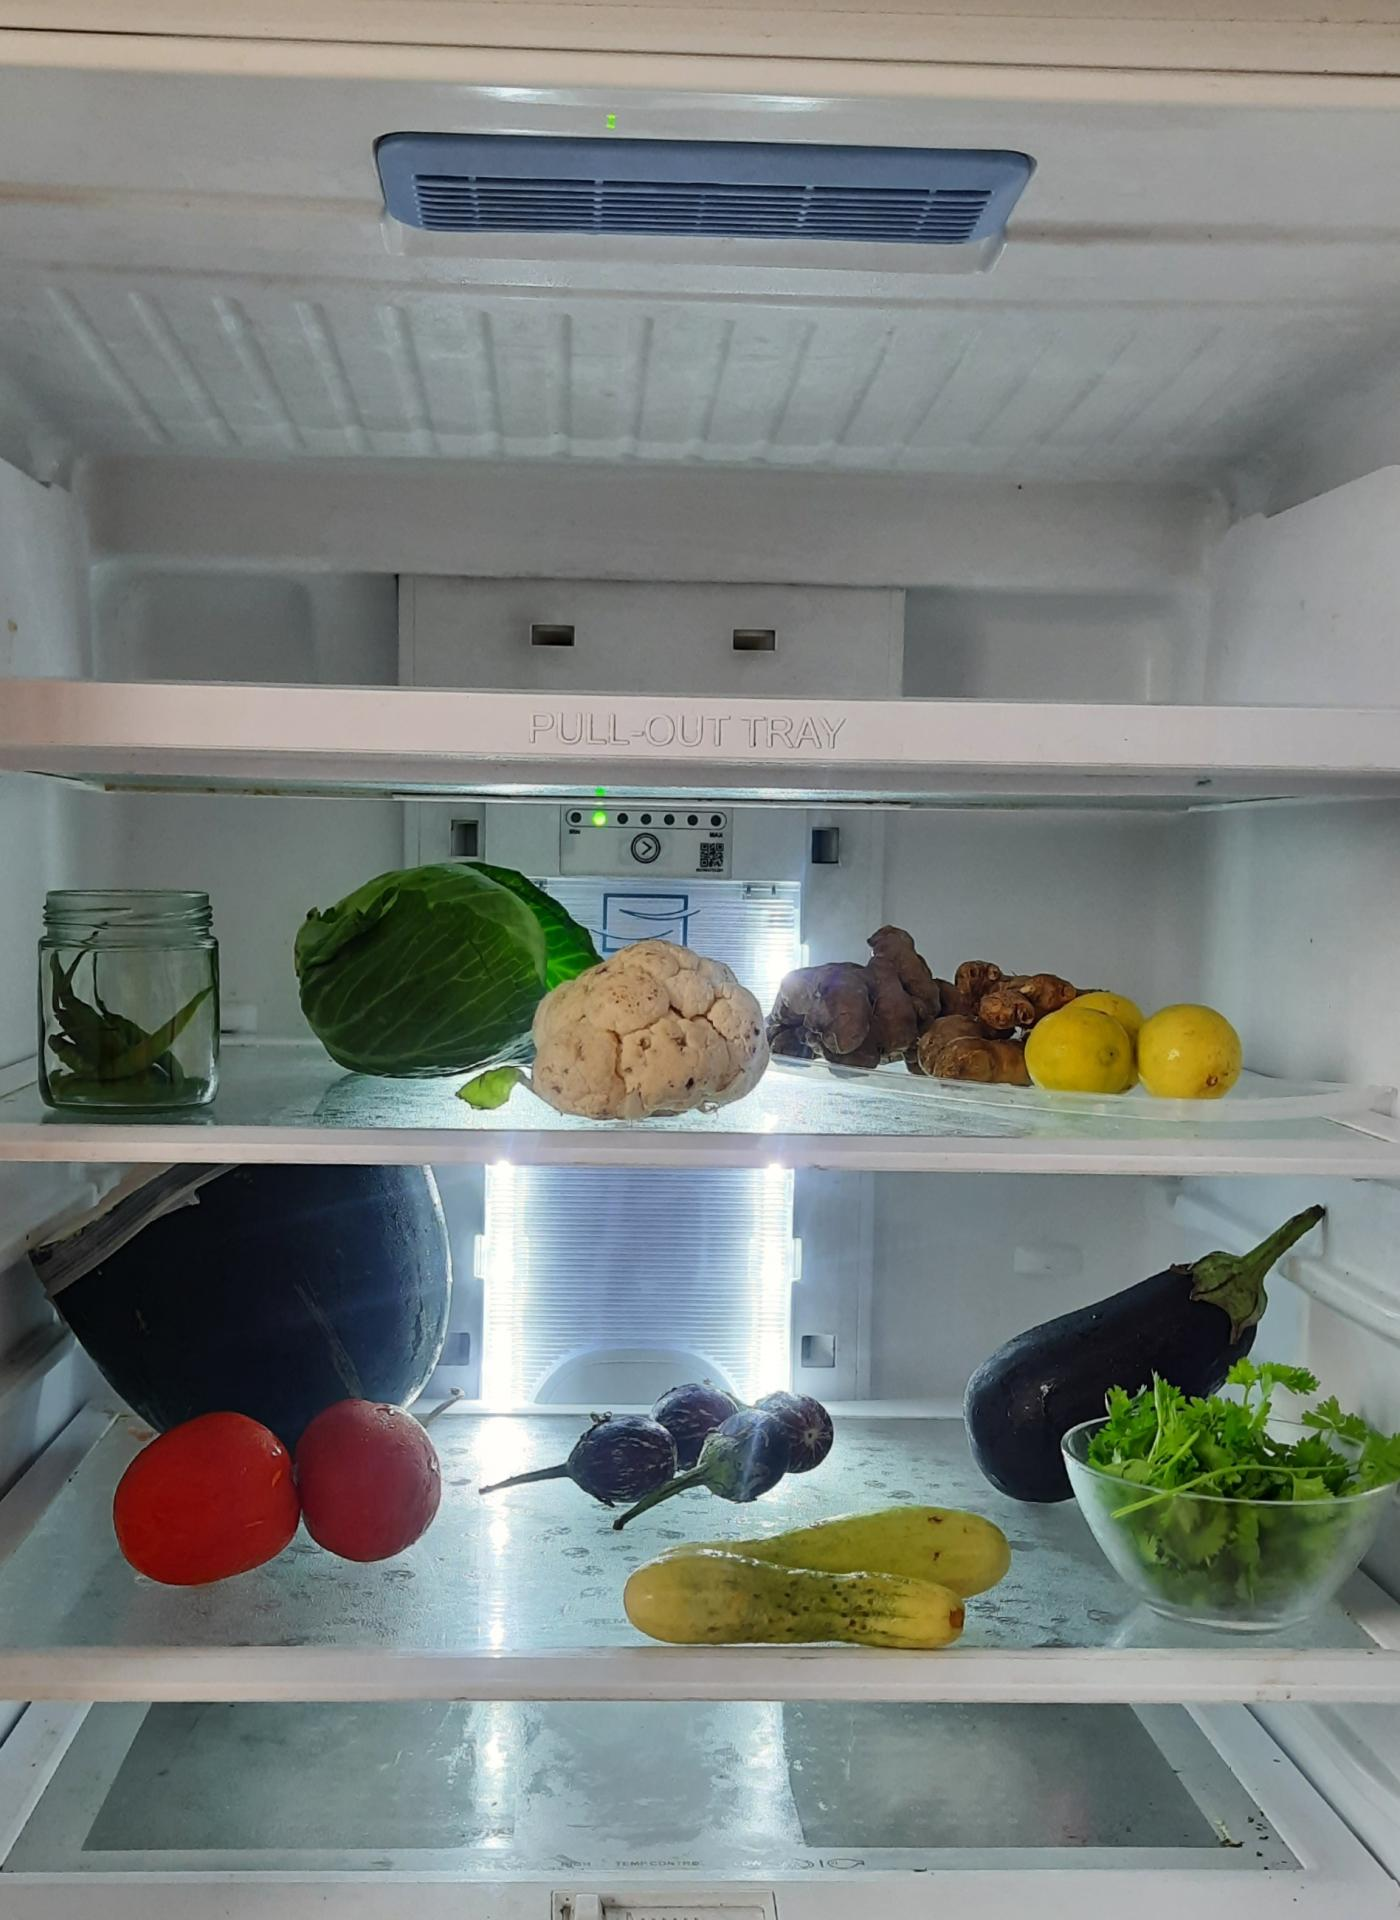brinjal: (966, 1230, 1345, 1522), (494, 1373, 848, 1525)
cabbage: (286, 865, 614, 1075)
cauliflower: (526, 938, 763, 1121)
chillies: (42, 891, 222, 1106)
coriander: (1073, 1362, 1400, 1616)
cucumber: (619, 1515, 1015, 1656)
ginger: (751, 926, 1050, 1099)
lemon: (1033, 984, 1255, 1099)
tomato: (118, 1398, 447, 1585)
watermelon: (31, 1164, 467, 1443)
